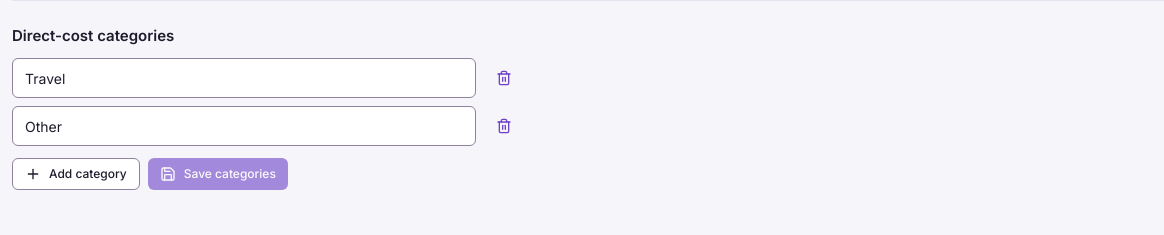
Test: loads shared categories and saves a Finance edit
This screenshot has width=1164, height=235.
Replace the text in the field showing "Travel" with "Software" at (244, 78), box [12,58,476,98]
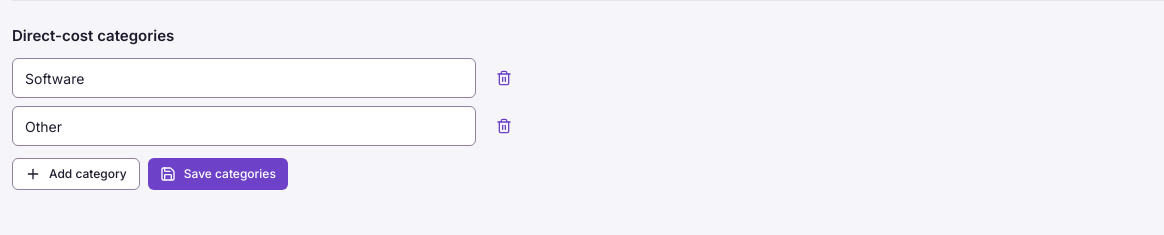
Click the button "Save categories" at (218, 174), box [148,158,288,190]
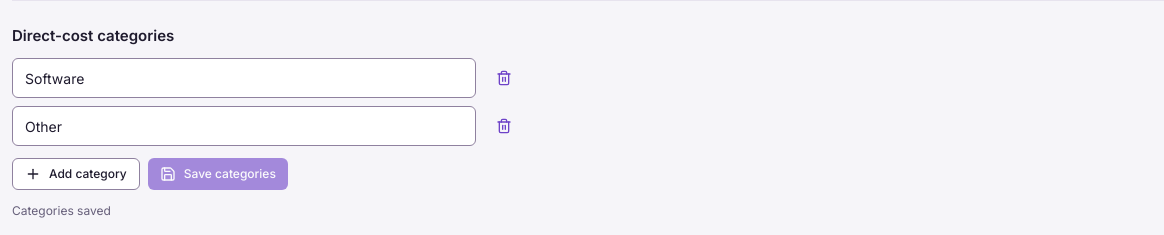
Result: the message reads "Categories saved" at [12,203,111,218]
